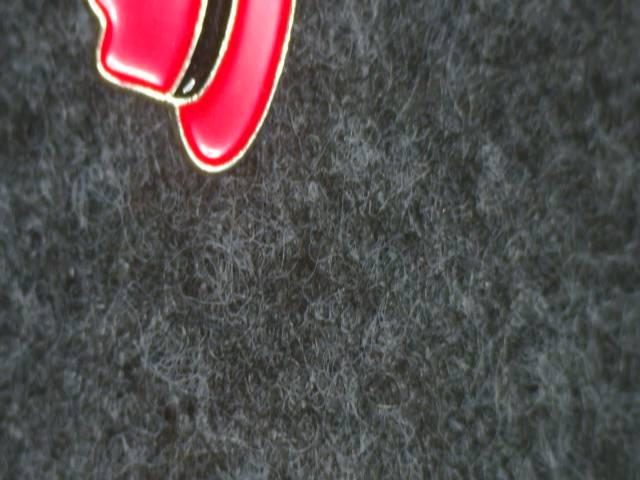Red-Hat: (48, 0, 330, 205)
